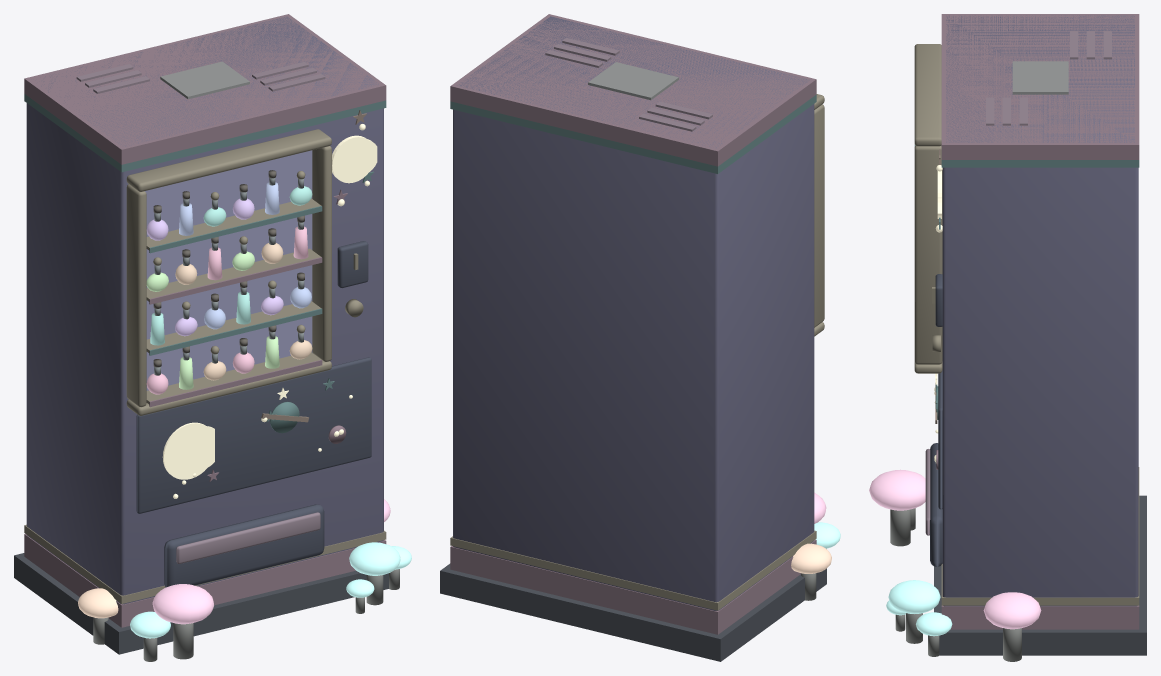
File: expendedora_pociones.glb
3 views of the same model, side by side, from view 1: azimuth 30°, elevation 25°; view 2: azimuth 150°, elevation 25°; view 3: azimuth 270°, elevation 25° (orthographic).
Parts seen in each view (by area): view 1: Pociones_Violeta, Pociones_Rosa, Pociones_VioletaOscuro, Pociones_Dorado, Pociones_FondoVitrina, Pociones, Pociones_BaseCiruela, Pociones_Turquesa, Pociones_Lila, Pociones_Luna, Pociones_HongoSombrero, Pociones_HongoTallo (+5 smaller); view 2: Pociones_Violeta, Pociones_Rosa, Pociones_BaseCiruela, Pociones_Dorado, Pociones_Turquesa, Pociones_Lila, Pociones_BlancoPuro, Pociones_HongoNaranja; view 3: Pociones_Violeta, Pociones_Rosa, Pociones_Dorado, Pociones_BaseCiruela, Pociones_HongoRosa, Pociones_HongoTallo, Pociones_VioletaOscuro, Pociones_HongoSombrero, Pociones_Lila, Pociones_BlancoPuro, Pociones_Turquesa.
Boxes of the visible parts, left/top/right/bottom form: Pociones_Violeta: left=26, top=16, right=383, bottom=604; Pociones_Rosa: left=24, top=14, right=386, bottom=627; Pociones_VioletaOscuro: left=136, top=241, right=371, bottom=587; Pociones_Dorado: left=24, top=129, right=386, bottom=603; Pociones_FondoVitrina: left=145, top=150, right=312, bottom=390; Pociones: left=146, top=182, right=312, bottom=394; Pociones_BaseCiruela: left=14, top=553, right=388, bottom=654; Pociones_Turquesa: left=24, top=94, right=386, bottom=433; Pociones_Lila: left=76, top=62, right=325, bottom=563; Pociones_Luna: left=162, top=124, right=377, bottom=498; Pociones_HongoSombrero: left=130, top=542, right=411, bottom=638; Pociones_HongoTallo: left=93, top=569, right=399, bottom=661; Pociones_Violeta: left=453, top=16, right=814, bottom=610; Pociones_Rosa: left=450, top=14, right=816, bottom=634; Pociones_BaseCiruela: left=440, top=563, right=826, bottom=661; Pociones_Dorado: left=450, top=94, right=824, bottom=610; Pociones_Turquesa: left=450, top=94, right=816, bottom=173; Pociones_Lila: left=545, top=38, right=712, bottom=131; Pociones_BlancoPuro: left=588, top=62, right=678, bottom=100; Pociones_HongoNaranja: left=791, top=543, right=831, bottom=573; Pociones_Violeta: left=942, top=15, right=1138, bottom=606; Pociones_Rosa: left=936, top=14, right=1139, bottom=629; Pociones_Dorado: left=914, top=44, right=1139, bottom=605; Pociones_BaseCiruela: left=934, top=495, right=1146, bottom=655; Pociones_HongoRosa: left=869, top=469, right=1041, bottom=629; Pociones_HongoTallo: left=890, top=508, right=1021, bottom=661; Pociones_VioletaOscuro: left=930, top=274, right=942, bottom=566; Pociones_HongoSombrero: left=886, top=580, right=952, bottom=636; Pociones_Lila: left=925, top=31, right=1111, bottom=535; Pociones_BlancoPuro: left=1012, top=61, right=1068, bottom=94; Pociones_Turquesa: left=914, top=144, right=1139, bottom=419.
Size of the model in its own units: 1.37 by 2.01 by 0.9922.
